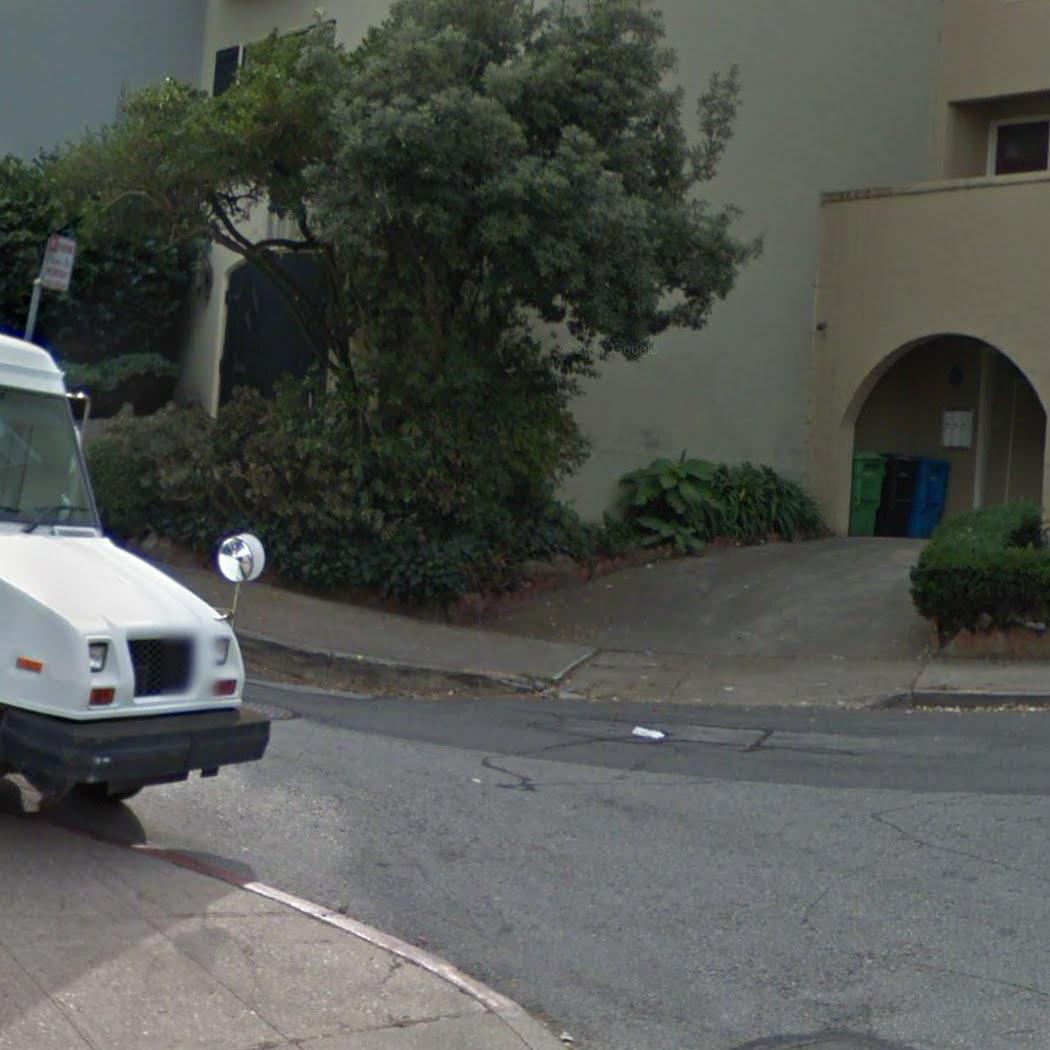No Parking: (37, 232, 76, 295)
